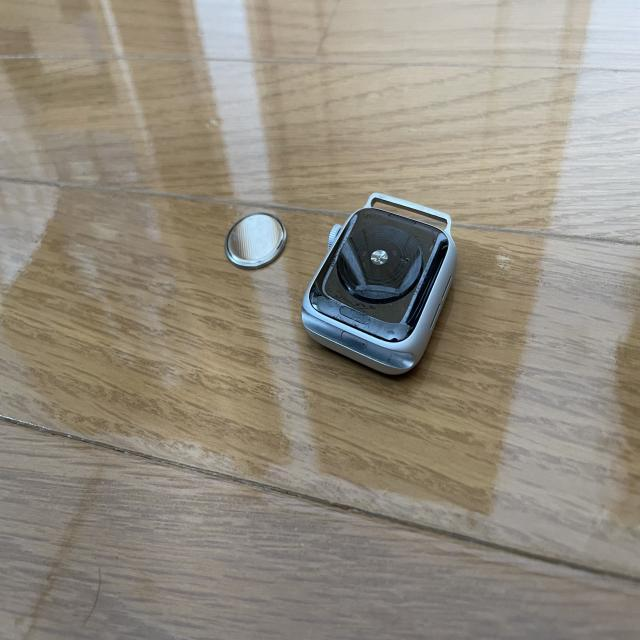COIN: (225, 212, 288, 268)
